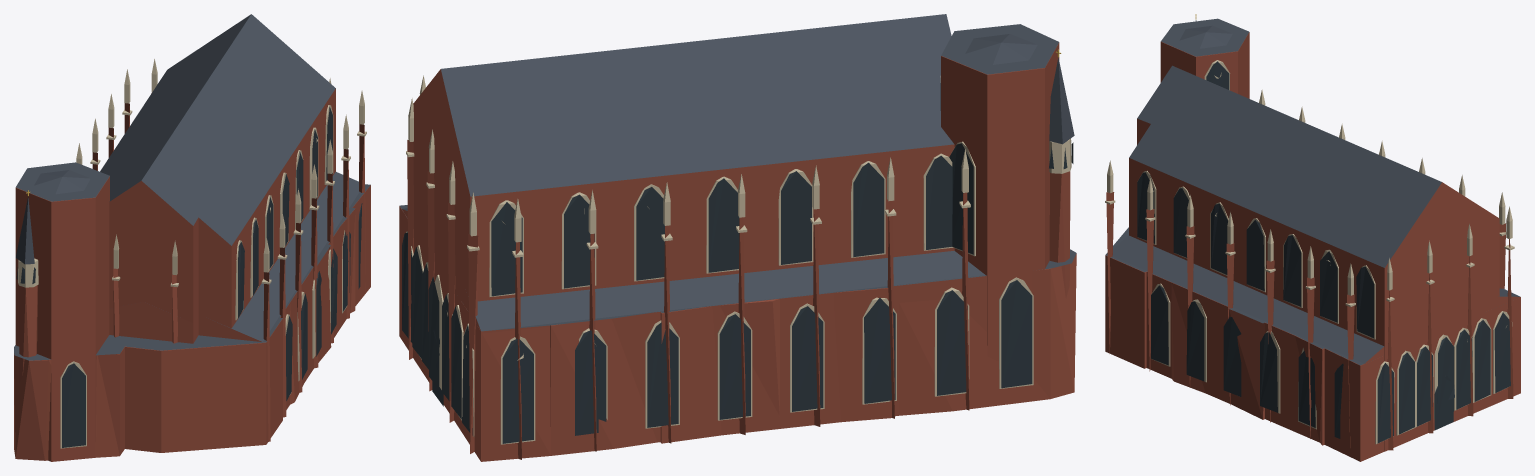
Rendered from dominicuskerk.lod1.glb.
3 views of the same model, side by side, from view 1: azimuth 30°, elevation 25°; view 2: azimuth 150°, elevation 25°; view 3: azimuth 270°, elevation 25° (orthographic). The views are drawn at different scales.
Visible parts, largest first — view 1: dominicuskerk; view 2: dominicuskerk; view 3: dominicuskerk.
Part boxes in pixels (bbox=[...]): dominicuskerk: bbox=[14, 14, 370, 461]; dominicuskerk: bbox=[399, 14, 1076, 461]; dominicuskerk: bbox=[1105, 14, 1520, 461].
Bounding box in the file's own units: 49.88 × 28.6 × 43.07.
